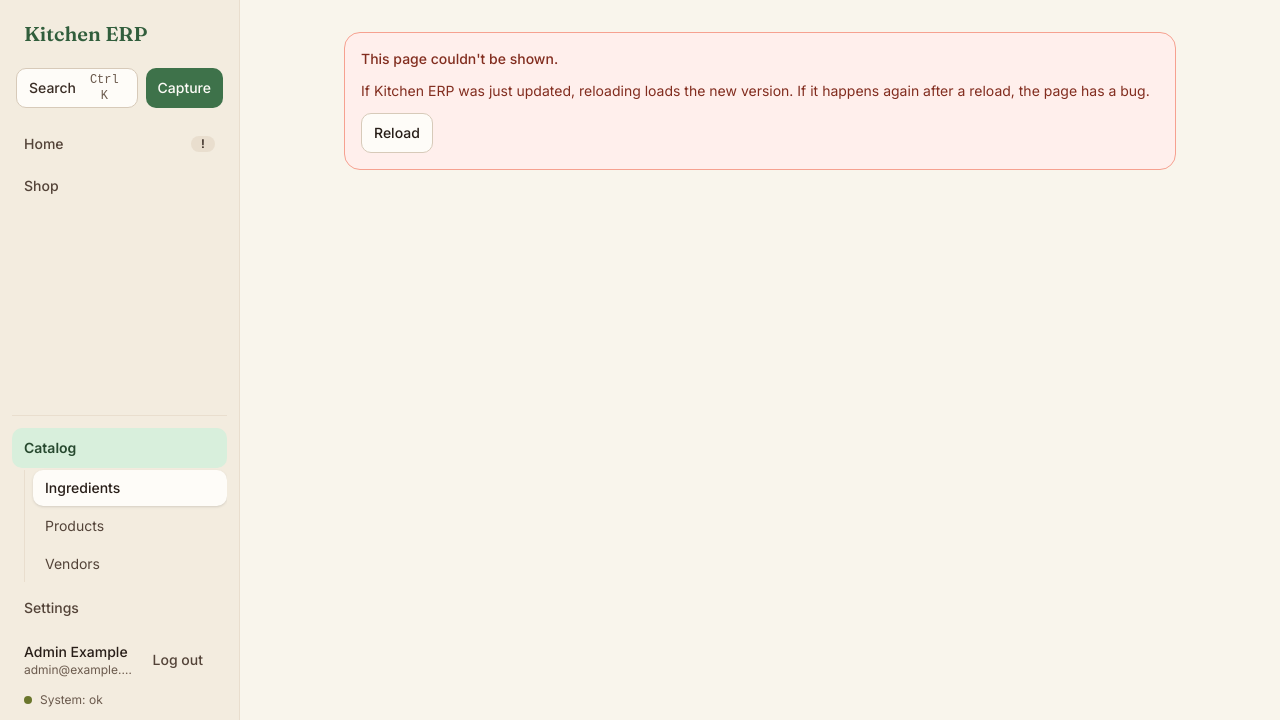
Scenario: a page that fails to render › keeps the app and says so, and navigating away starts clean
The width and height of the screenshot is (1280, 720).
Expected: the button "Reload" is shown, x1=361 y1=113 x2=433 y2=153
The navigation is still there to leave by.
Click the link "Shop": coordinates (41, 186) x1=24 y1=177 x2=59 y2=194
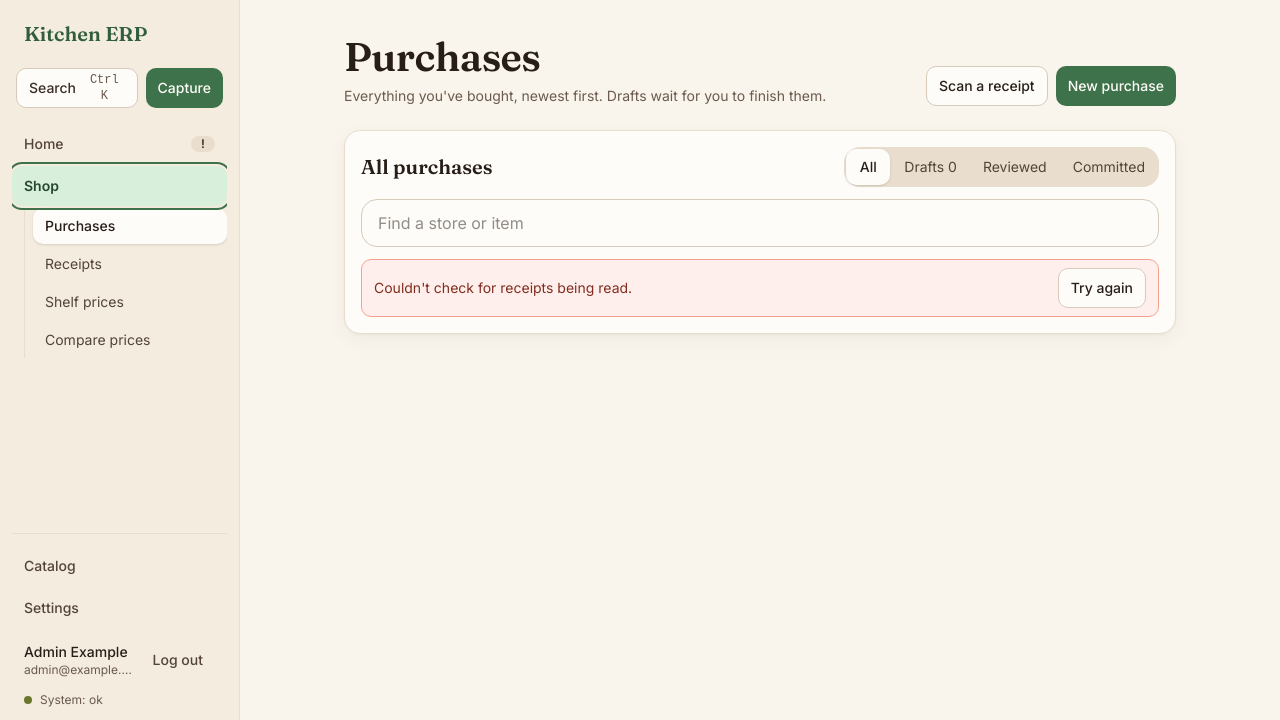
Expected: the heading "Purchases" is shown, x1=344 y1=32 x2=540 y2=81
Expected: the text "This page couldn't be shown." is gone
